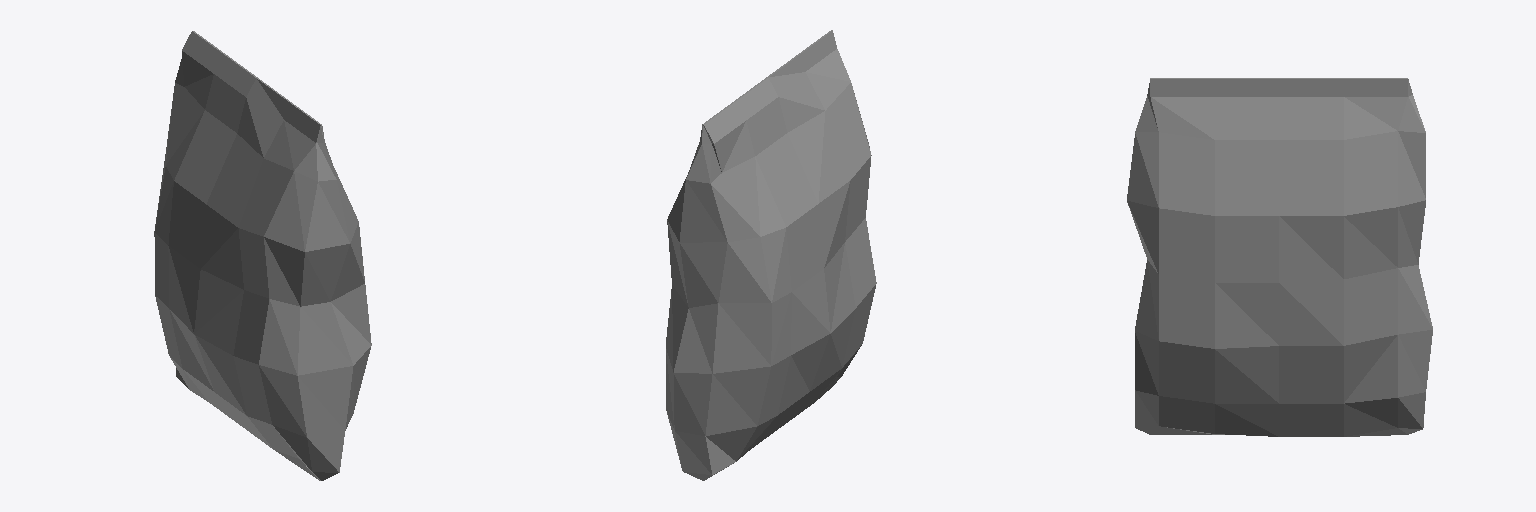
File: Chips.obj
The picture shows the model from 3 angles: view 1: azimuth 30°, elevation 25°; view 2: azimuth 150°, elevation 25°; view 3: azimuth 270°, elevation 25°; orthographic projection.
Visible parts, largest first — view 1: Chips; view 2: Chips; view 3: Chips.
Part boxes in pixels (left/top/right/bottom): Chips: left=154, top=31, right=371, bottom=480; Chips: left=666, top=30, right=876, bottom=480; Chips: left=1127, top=78, right=1432, bottom=436.
Bounding box in the file's own units: 10.59 × 28.93 × 22.55.